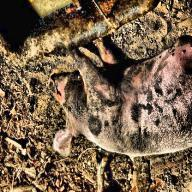boar: (46, 37, 192, 157)
